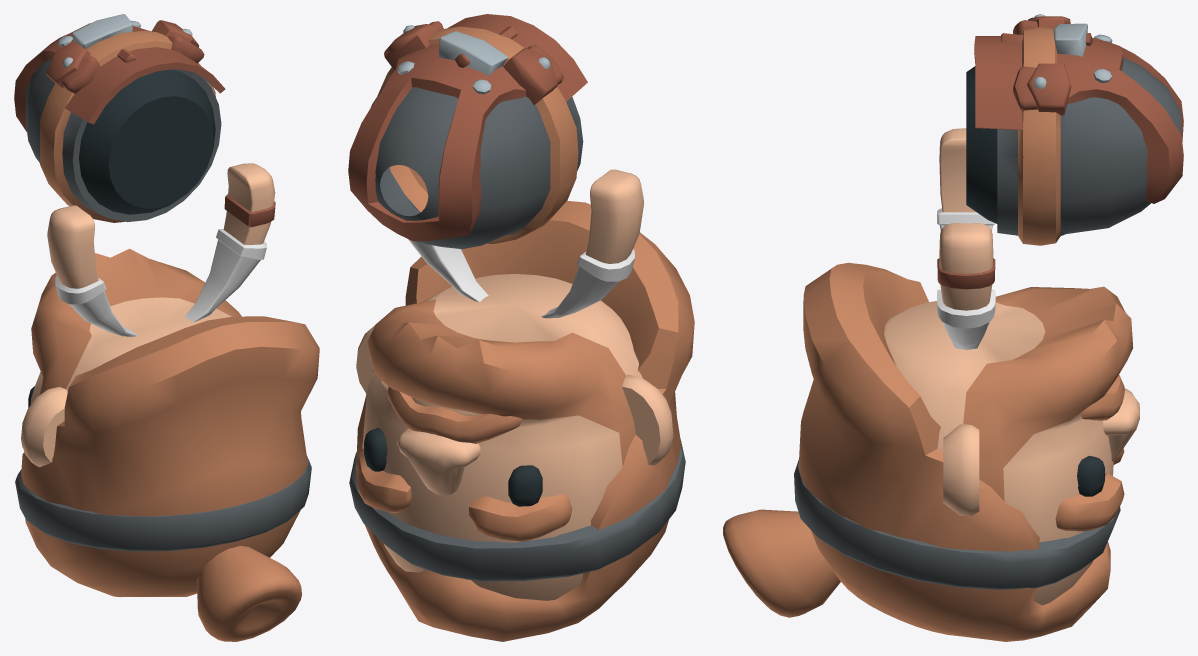
File: character_blacksmith.dae
3 views of the same model, side by side, from view 1: azimuth 30°, elevation 25°; view 2: azimuth 150°, elevation 25°; view 3: azimuth 270°, elevation 25° (orthographic). The views are drawn at different scales.
Visible parts, largest first — view 1: character_blacksmithHead, character_blacksmithBody, character_blacksmithArmLeft, character_blacksmithArmRight; view 2: character_blacksmithHead, character_blacksmithBody, character_blacksmithArmRight, character_blacksmithArmLeft; view 3: character_blacksmithHead, character_blacksmithBody, character_blacksmithArmLeft, character_blacksmithArmRight.
Part boxes in pixels (left/top/right/bottom): character_blacksmithHead: left=15, top=248, right=319, bottom=641; character_blacksmithBody: left=14, top=14, right=225, bottom=222; character_blacksmithArmLeft: left=184, top=163, right=275, bottom=322; character_blacksmithArmRight: left=47, top=205, right=137, bottom=336; character_blacksmithHead: left=349, top=200, right=694, bottom=641; character_blacksmithBody: left=348, top=14, right=587, bottom=249; character_blacksmithArmRight: left=541, top=169, right=643, bottom=318; character_blacksmithArmLeft: left=408, top=239, right=488, bottom=301; character_blacksmithHead: left=723, top=262, right=1139, bottom=641; character_blacksmithBody: left=966, top=14, right=1183, bottom=245; character_blacksmithArmLeft: left=937, top=223, right=995, bottom=349; character_blacksmithArmRight: left=937, top=128, right=995, bottom=230.
Bounding box in the file's own units: 1.18 × 1.55 × 2.18.
